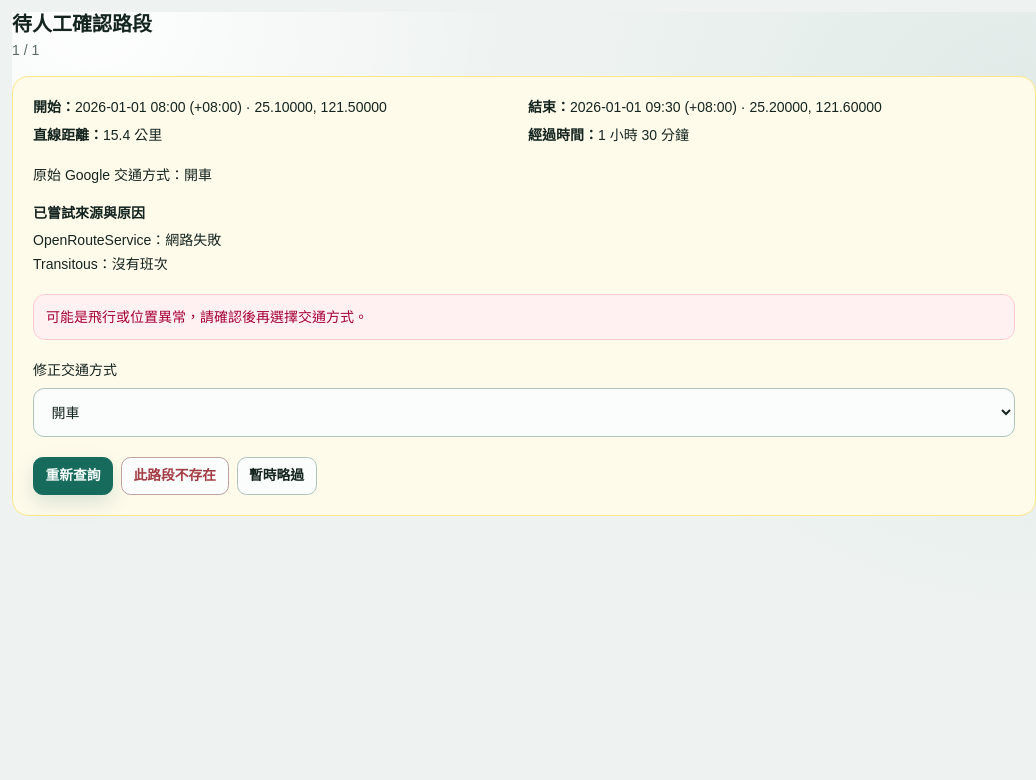
UnresolvedReview › keeps a failed retry in the queue
Step 1. Click the button "重新查詢" → x=73, y=476, box x1=33 y1=457 x2=113 y2=495
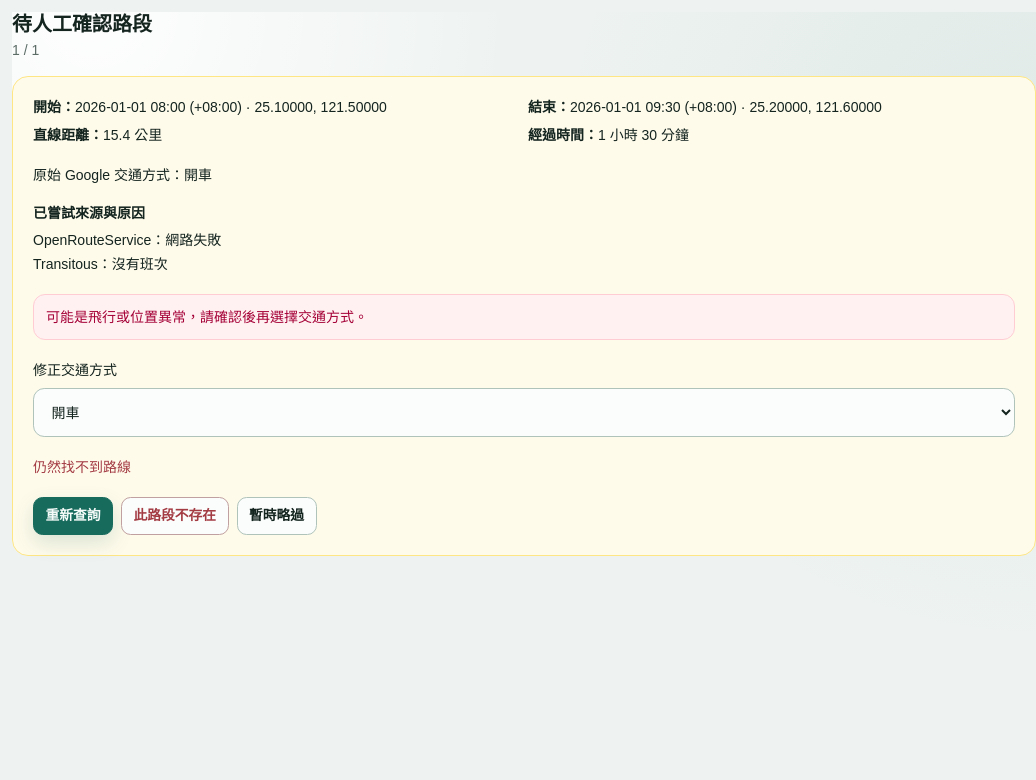
Check: the text "原始 Google 交通方式：開車" is shown, box x1=33 y1=167 x2=212 y2=183
Check: the text "仍然找不到路線" is shown, box x1=33 y1=459 x2=131 y2=475
